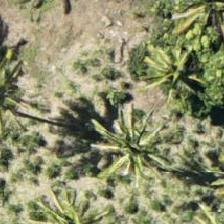coconut_tree: (127, 22, 217, 112), (60, 99, 150, 189)
